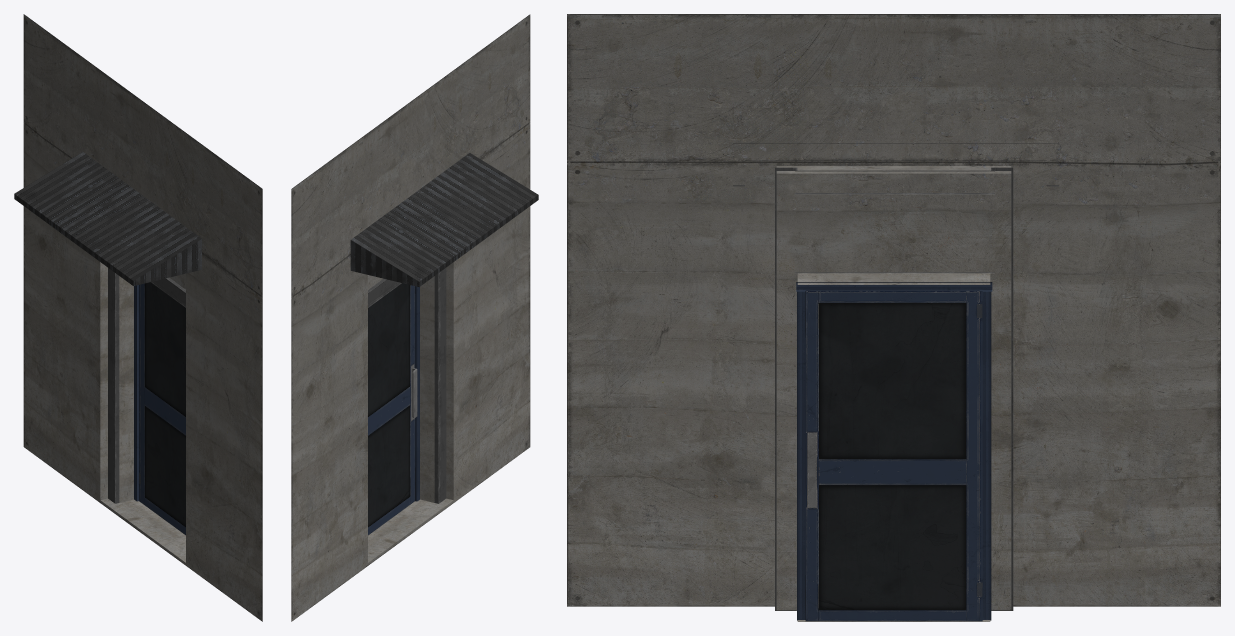
The model's file is CP_Wall_Entry_4m_04.fbx.
The picture shows the model from 3 angles, left to right: view 1: azimuth 30°, elevation 25°; view 2: azimuth 150°, elevation 25°; view 3: azimuth 270°, elevation 25°; orthographic projection. The views are drawn at different scales.
Visible parts, largest first — view 1: CP_Wall_Entry_4m_04; view 2: CP_Wall_Entry_4m_04; view 3: CP_Wall_Entry_4m_04.
Part boxes in pixels (x1=…): CP_Wall_Entry_4m_04: x1=14, y1=14, x2=262, y2=621; CP_Wall_Entry_4m_04: x1=291, y1=14, x2=538, y2=621; CP_Wall_Entry_4m_04: x1=567, y1=14, x2=1220, y2=621.
Bounding box in the file's own units: 94.38 × 400 × 400.
